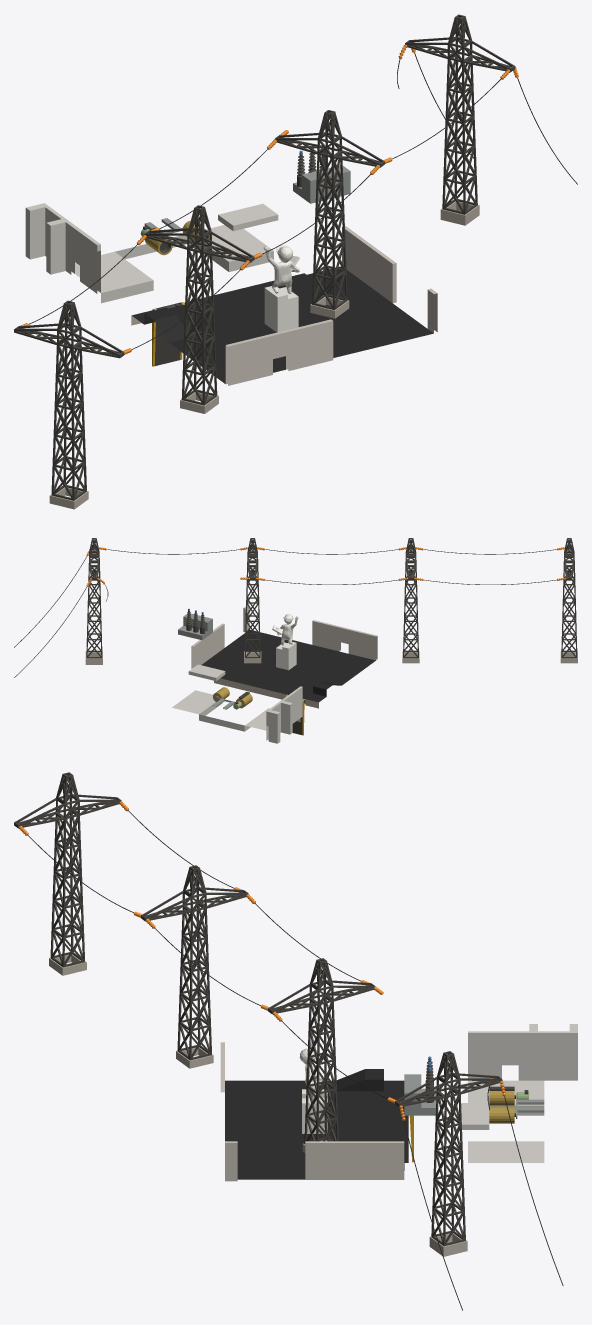
Rendered from BeltRoom.fbx.
3 renders of one model, top to bottom at view 1: azimuth 30°, elevation 25°; view 2: azimuth 150°, elevation 25°; view 3: azimuth 270°, elevation 25°, orthographic. The views are drawn at different scales.
Parts seen in each view (by area): view 1: WirePole, BeltGround2, BeltGround, AutomaticDoorWall.001, BeltDoorWall, MotorGateWall.003, StatuePedestal, TransformerPole, Statue, BeltBridge; view 2: WirePole, BeltGround2, BeltGround, AutomaticDoorWall.001, BeltDoorWall, MotorGateWall.003, TransformerPole, StatuePedestal, Statue; view 3: WirePole, BeltGround2, BeltDoorWall, MotorGateWall.003, BeltGround, TransformerPole.
Boxes of the visible parts, x1,y1,x2,y2 form: WirePole: (14,14,577,509); BeltGround2: (131,266,433,383); BeltGround: (75,203,278,303); AutomaticDoorWall.001: (225,319,333,385); BeltDoorWall: (25,203,100,293); MotorGateWall.003: (342,226,437,333); StatuePedestal: (264,286,298,332); TransformerPole: (293,148,350,203); Statue: (263,244,299,293); BeltBridge: (152,302,184,366); WirePole: (14,538,577,677); BeltGround2: (201,630,375,708); BeltGround: (172,664,300,731); AutomaticDoorWall.001: (312,620,377,660); BeltDoorWall: (266,686,302,743); MotorGateWall.003: (191,605,249,668); TransformerPole: (178,608,212,640); StatuePedestal: (276,641,296,670); Statue: (277,614,298,645); WirePole: (14,772,563,1310); BeltGround2: (225,1069,408,1179); BeltDoorWall: (468,1024,577,1080); MotorGateWall.003: (225,1141,404,1181); BeltGround: (461,1080,544,1162); TransformerPole: (404,1056,438,1115).
Size of the model in its own units: 98.54 by 32.62 by 66.64.
Materials: 1 (1 with a texture image).
